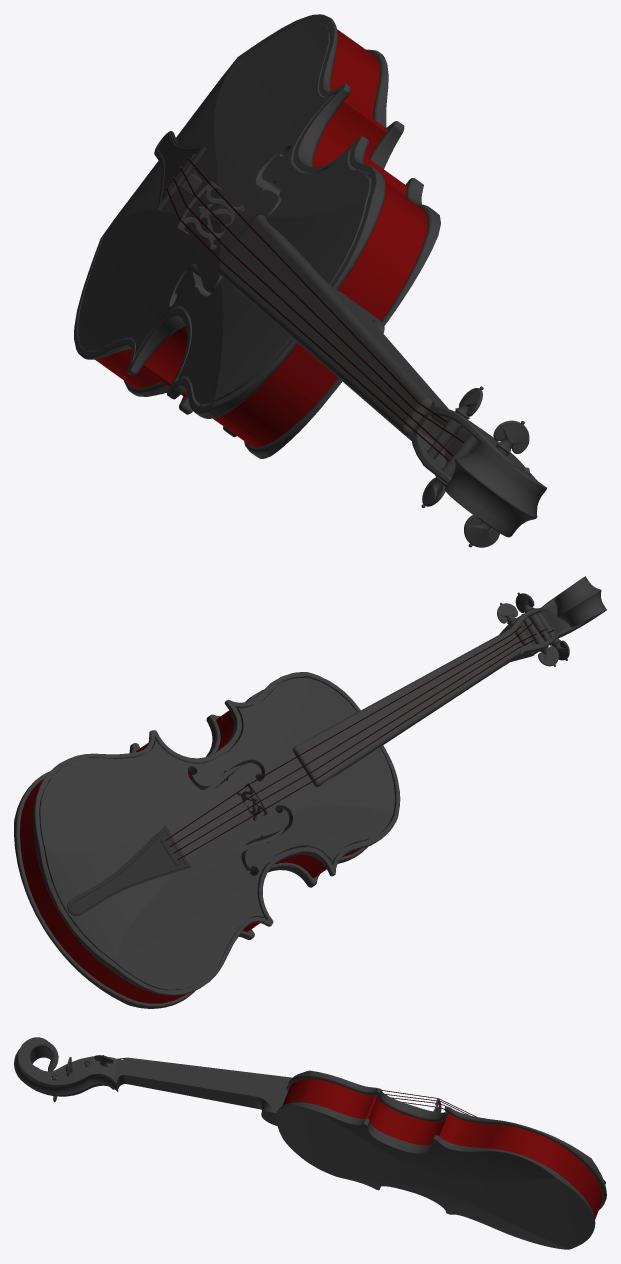
Rendered from Assembly2.fbx.
3 renders of one model, top to bottom at view 1: azimuth 30°, elevation 25°; view 2: azimuth 150°, elevation 25°; view 3: azimuth 270°, elevation 25°, orthographic. The views are drawn at different scales.
Visible parts, largest first — view 1: Body1 (×11), Body4, Body2, Body3; view 2: Body1 (×7), Body4, Body2, Body3; view 3: Body1 (×4).
Part boxes in pixels (x1,y1,x2,y2): Body1 (×11): [74, 14, 546, 547]; Body4: [173, 177, 453, 456]; Body2: [180, 168, 463, 442]; Body3: [187, 158, 447, 422]; Body1 (×7): [14, 576, 606, 1008]; Body4: [173, 628, 547, 853]; Body2: [169, 622, 533, 846]; Body3: [165, 626, 521, 840]; Body1 (×4): [14, 1037, 606, 1249].
Size of the model in its own units: 259 by 212 by 634.
